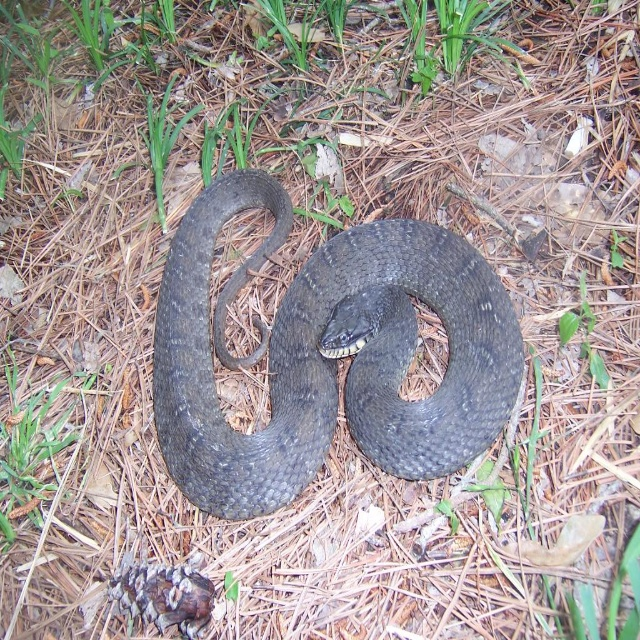Snake: (154, 168, 524, 521)
